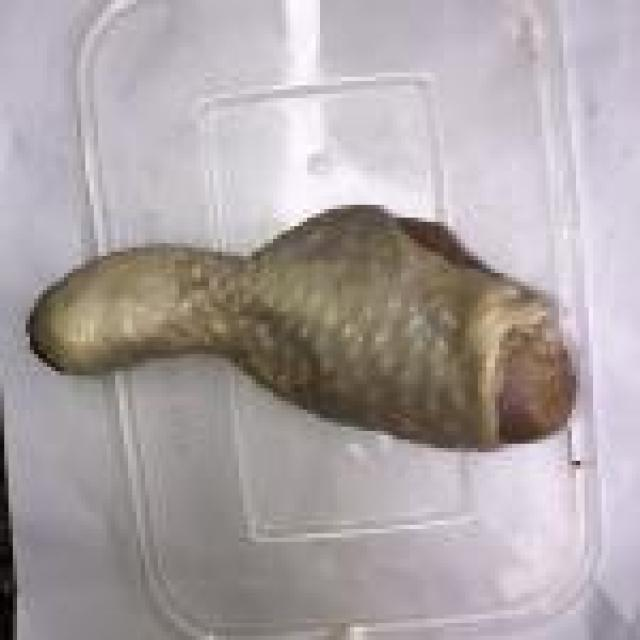leg: (8, 183, 580, 482)
